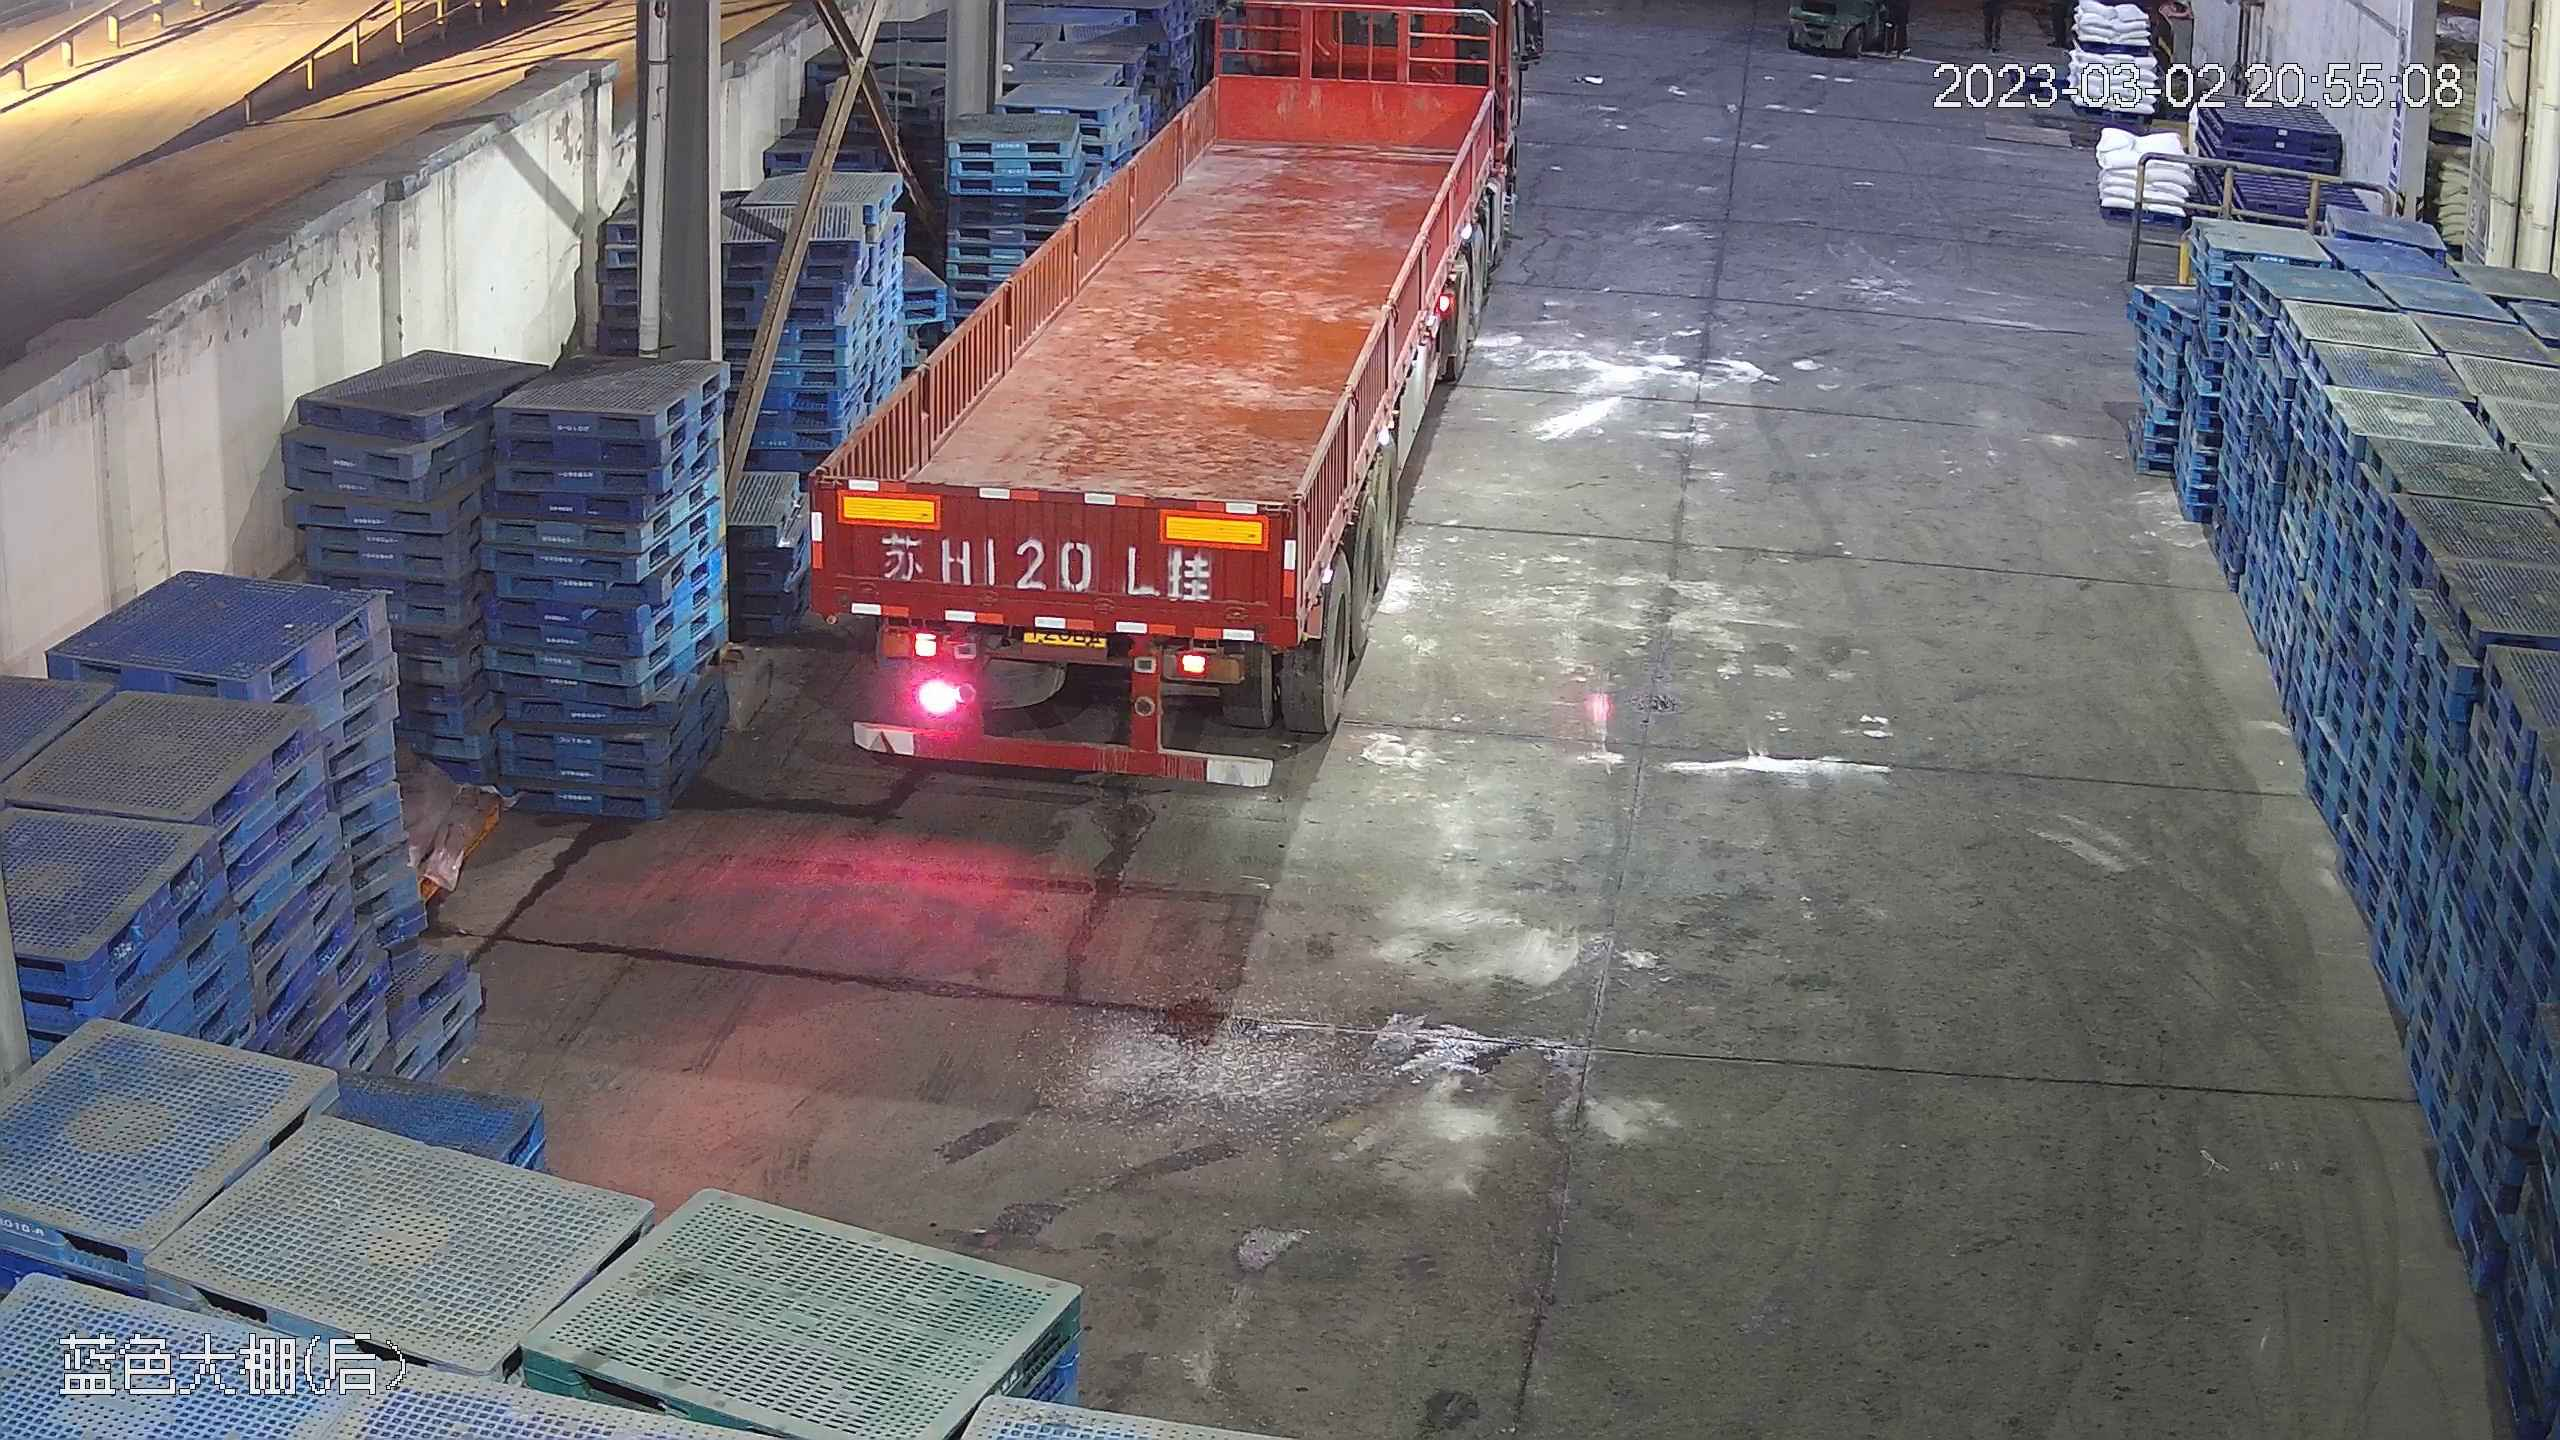truck: (802, 4, 1531, 788)
